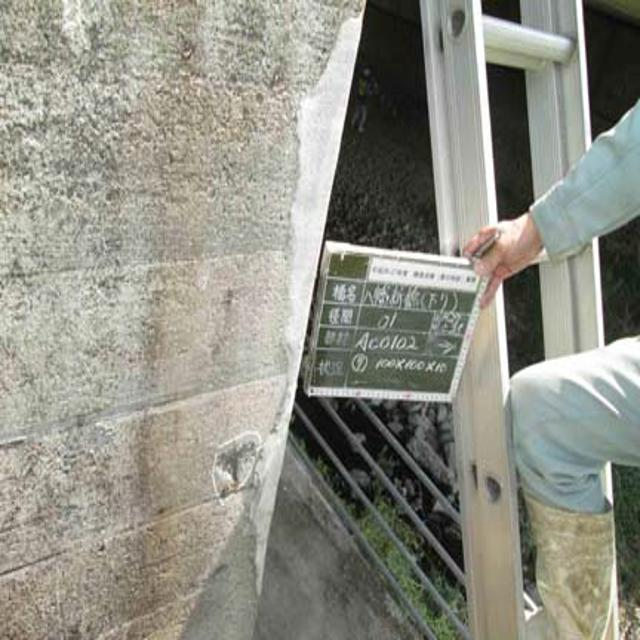spalling: (213, 426, 270, 518)
